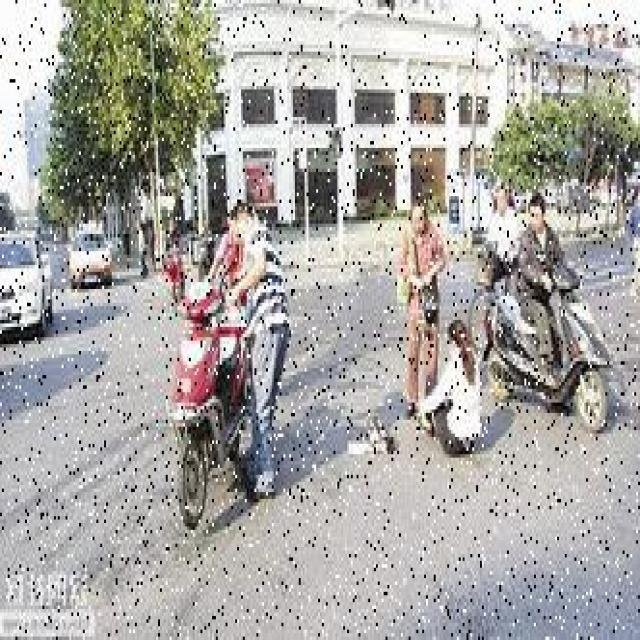fall: (420, 320, 488, 458)
